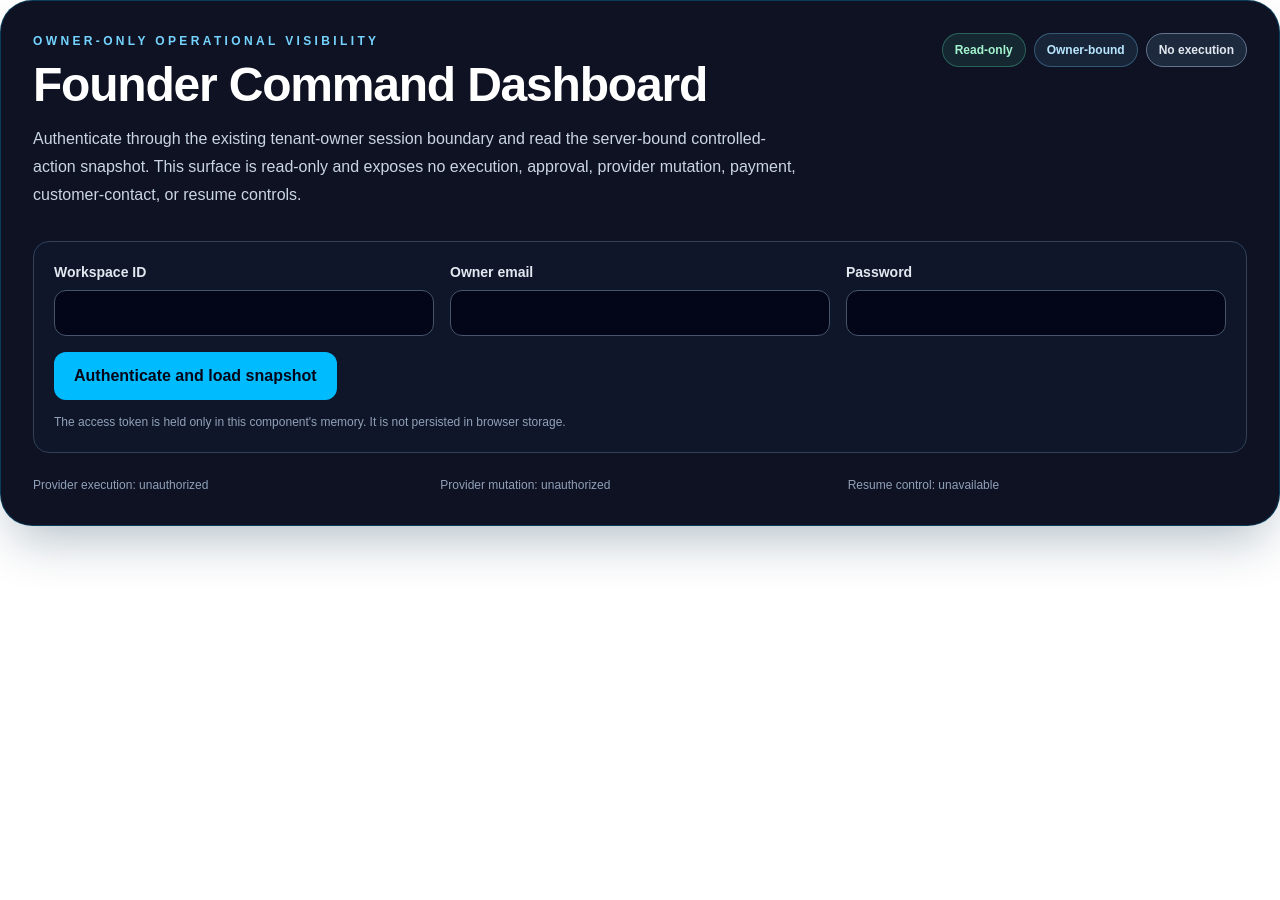
it: NexusFounderCommandDashboard browser interaction › preserves the verified founder command snapshot when growth evidence is unavailable
Type "tenant-a" into the field labelled "Workspace ID".
click(244, 313); type("tenant-a")  # box [54,290,434,336]
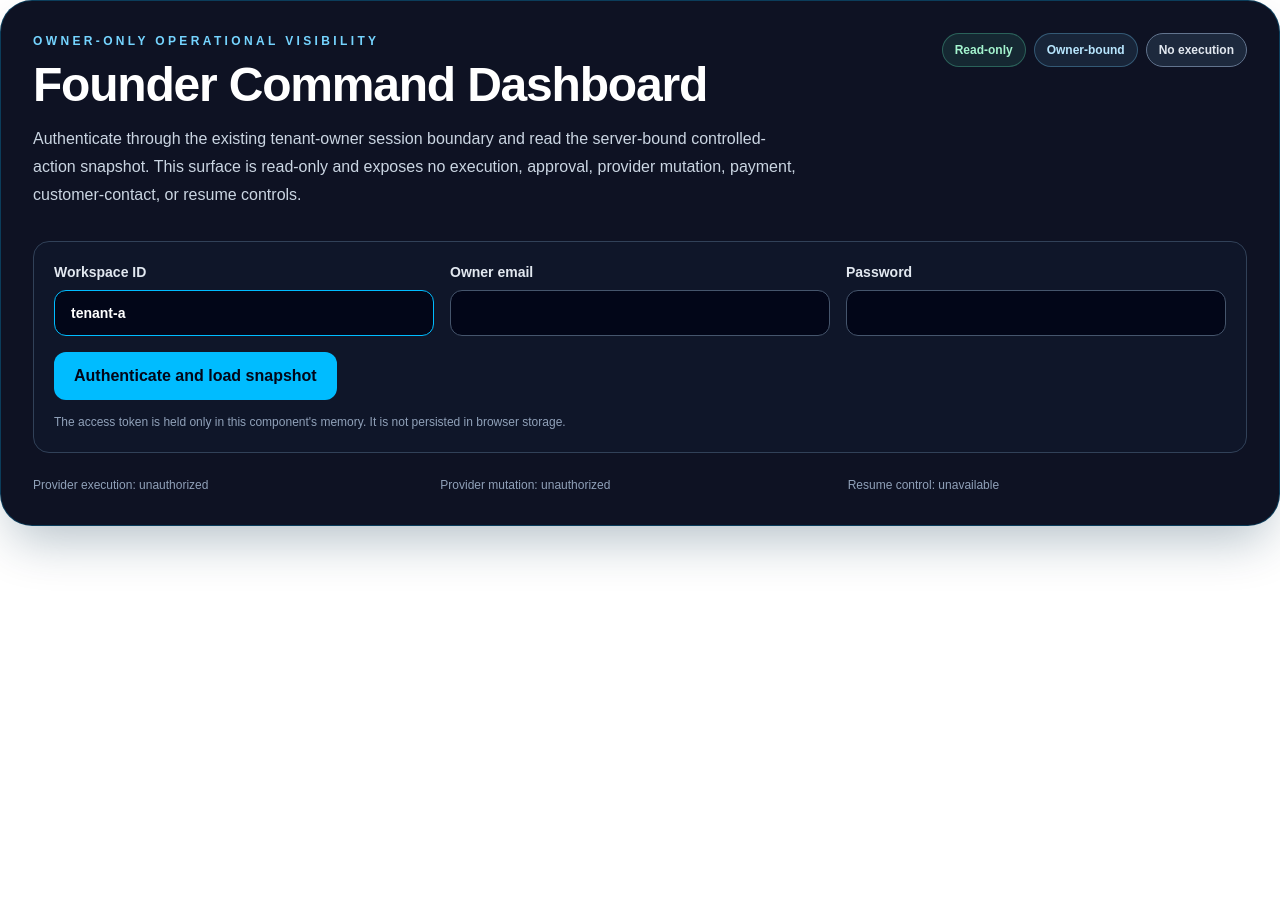
Type "owner@example.com" into the field labelled "Owner email".
click(640, 313); type("owner@example.com")  # box [450,290,830,336]
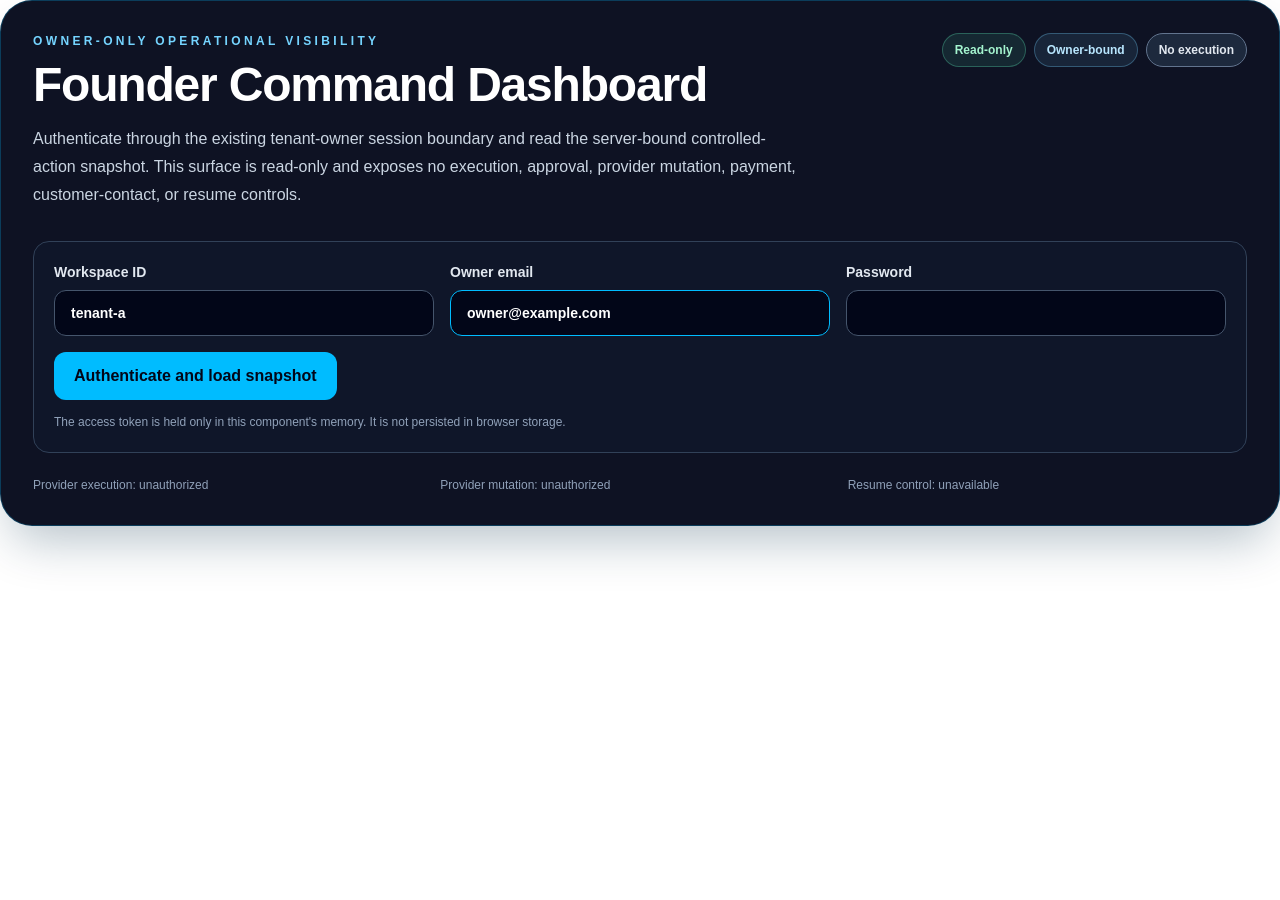
Type "secret-password" into the password field labelled "Password".
click(1036, 313); type("secret-password")  # box [846,290,1226,336]
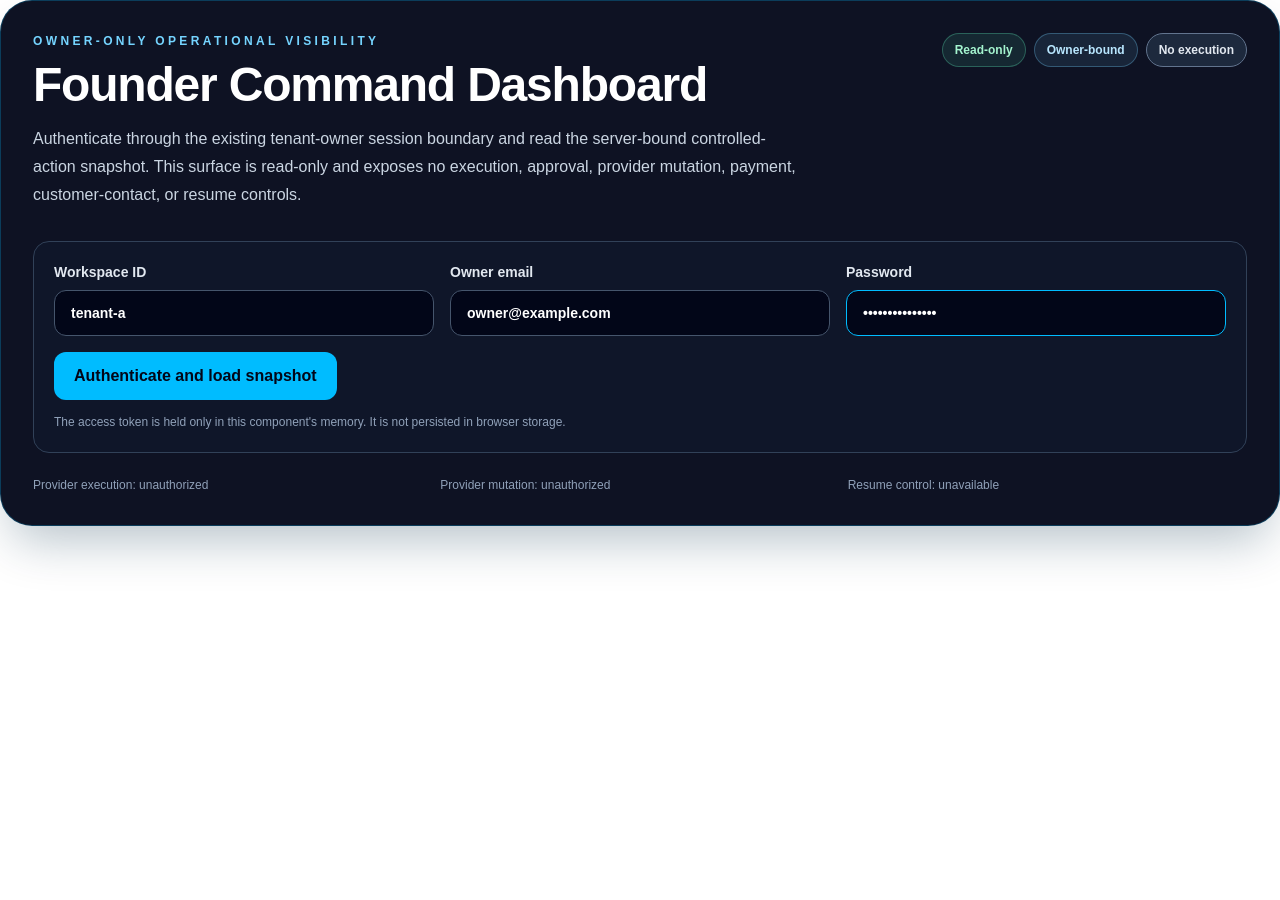
Click the button "Authenticate and load snapshot".
click(195, 376)  # box [54,352,337,400]
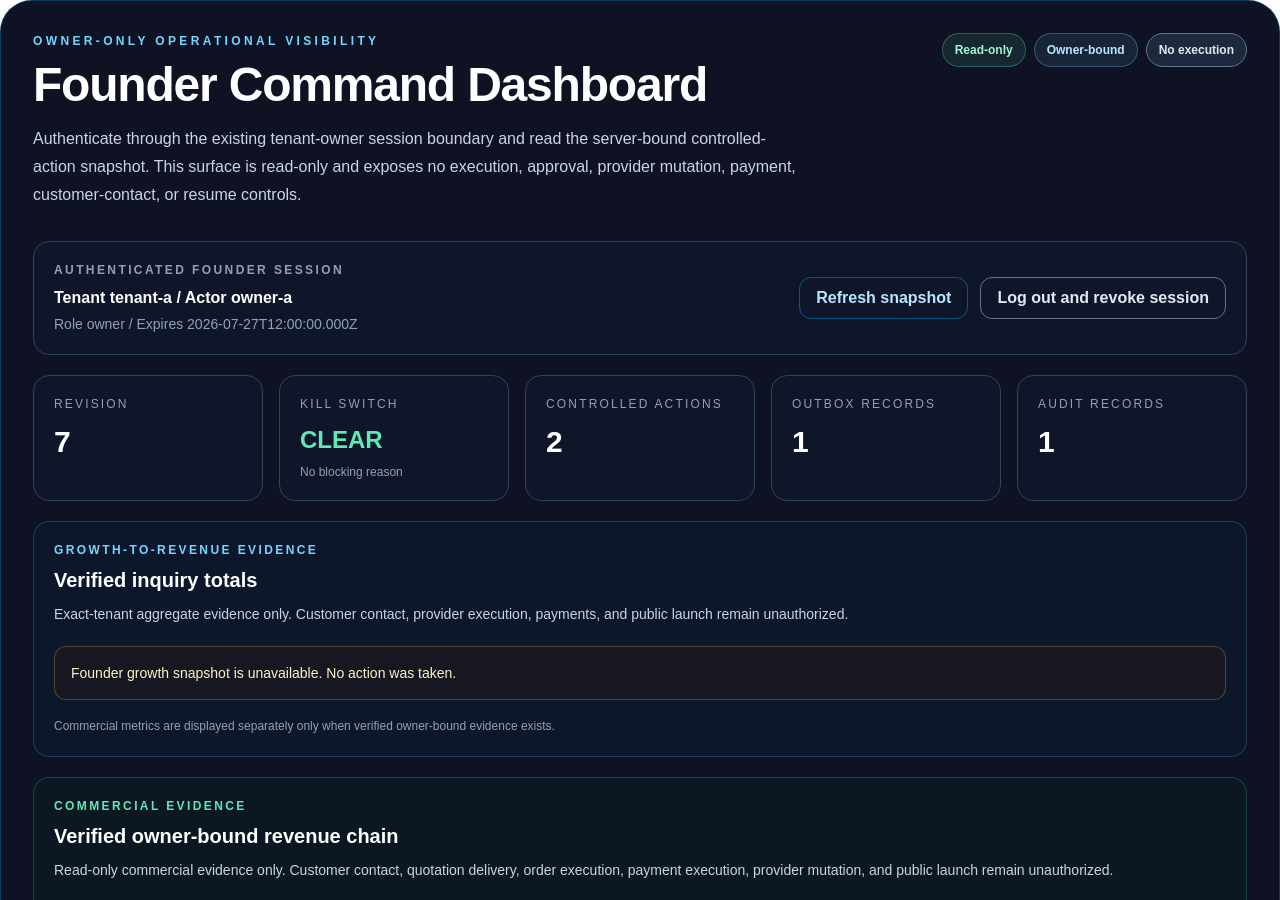
Result: the text "Founder growth snapshot is unavailable. No action was taken." is shown at [54,646,1226,700]
Result: the text named "Snapshot revision" reads "7" at [54,425,71,458]
Result: the button "Refresh snapshot" is shown at [799,277,968,319]
